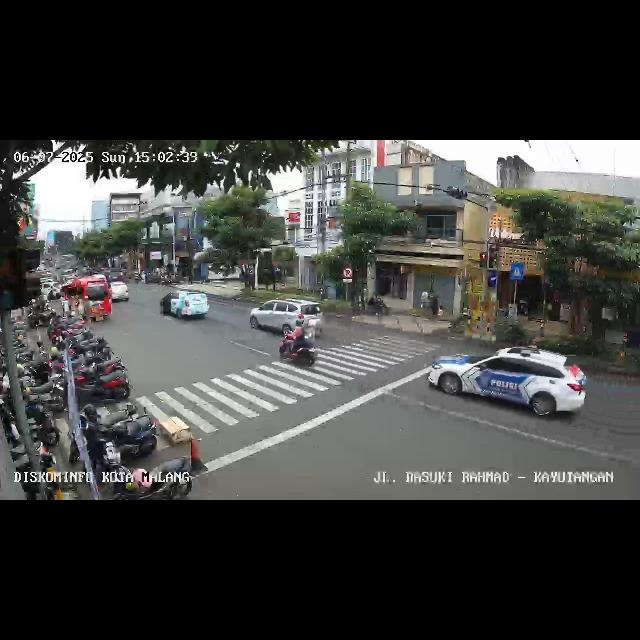car: (430, 345, 588, 425), (251, 298, 323, 338), (60, 276, 112, 324), (160, 286, 210, 324)
motorcycle: (280, 319, 318, 369)
